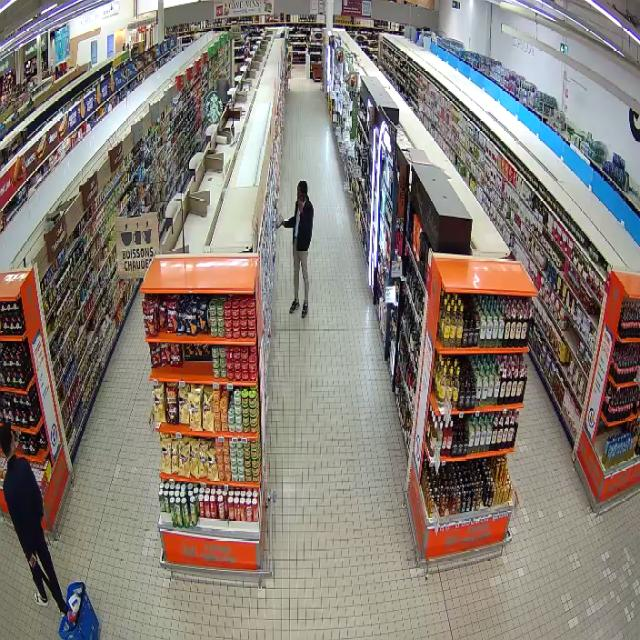article: (274, 214, 283, 229)
hands: (296, 198, 303, 213), (29, 554, 37, 567)
person: (0, 424, 65, 614), (279, 180, 313, 318)
